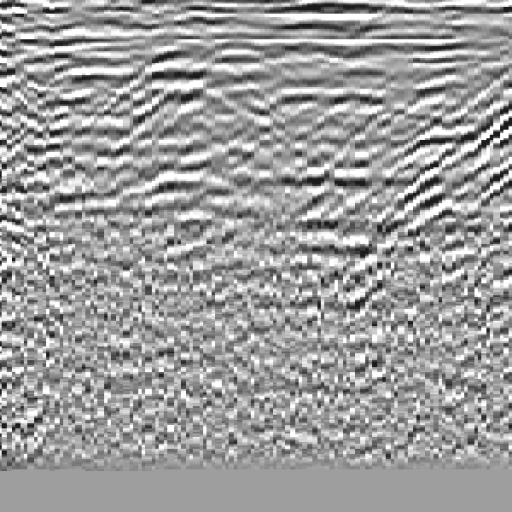metalic: (136, 48, 337, 275)
nonmetalic: (368, 70, 512, 314)
